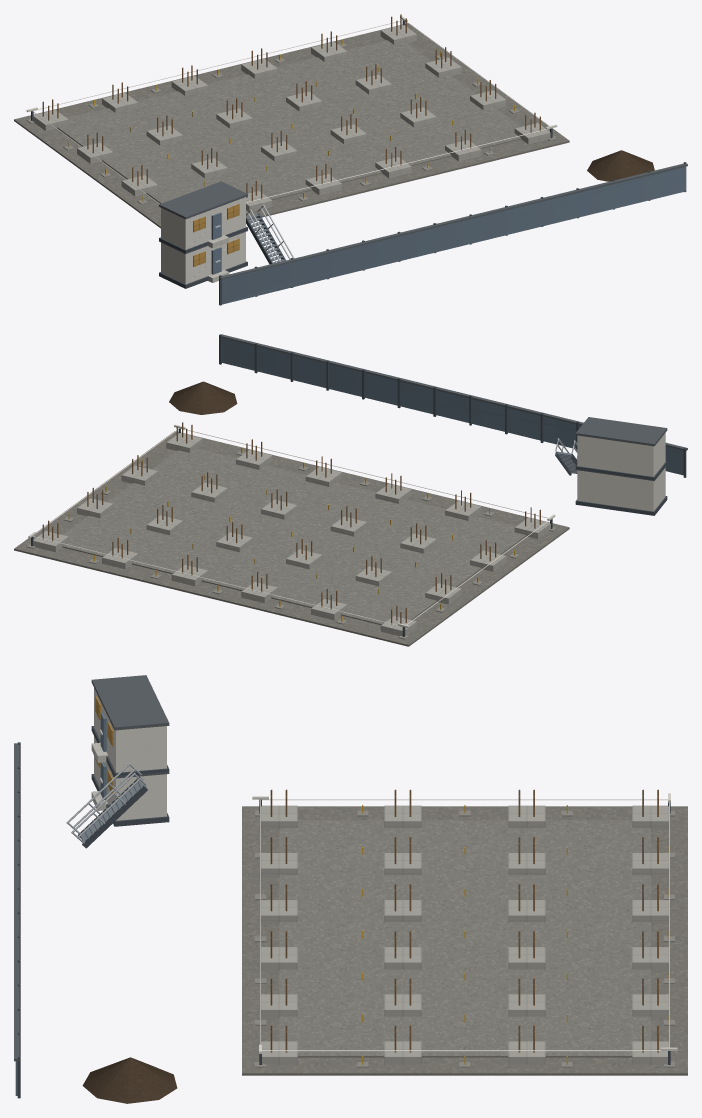
The model's file is el-3-site.glb.
The picture shows the model from 3 angles, top to bottom: view 1: azimuth 30°, elevation 25°; view 2: azimuth 150°, elevation 25°; view 3: azimuth 270°, elevation 25°; orthographic projection. The views are drawn at different scales.
Bounding box in the file's own units: 41.93 × 6.02 × 36.27.
19 materials, 9 textured.
